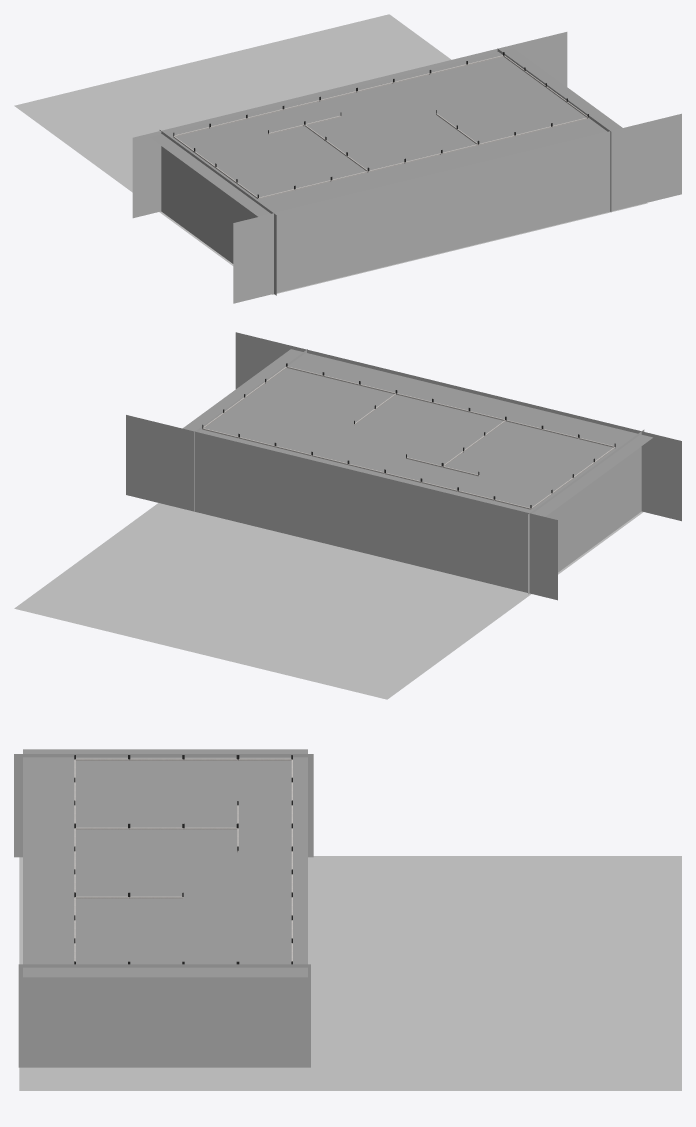
File: Structure.fbx
3 views of the same model, one above another, from view 1: azimuth 30°, elevation 25°; view 2: azimuth 150°, elevation 25°; view 3: azimuth 270°, elevation 25° (orthographic). The views are drawn at different scales.
Parts seen in each view (by area): view 1: Ceiling, Wall_1, thorkea_test_floor, Wall_2 (1), Wall_1 (1), Wall_2; view 2: thorkea_test_floor, Ceiling, Wall_1 (1), Wall_1, Wall_2 (1); view 3: thorkea_test_floor, Ceiling, Wall_2, Wall_2 (1).
Boxes of the visible parts, x1=… form: Ceiling: x1=149, y1=48, x2=622, y2=216; Wall_1: x1=233, y1=113, x2=681, y2=303; thorkea_test_floor: x1=14, y1=14, x2=647, y2=294; Wall_2 (1): x1=159, y1=130, x2=276, y2=295; Wall_1 (1): x1=132, y1=32, x2=567, y2=218; Wall_2: x1=497, y1=48, x2=611, y2=211; thorkea_test_floor: x1=14, y1=503, x2=643, y2=699; Ceiling: x1=182, y1=349, x2=652, y2=516; Wall_1 (1): x1=126, y1=415, x2=557, y2=600; Wall_1: x1=235, y1=332, x2=681, y2=521; Wall_2 (1): x1=528, y1=429, x2=644, y2=594; thorkea_test_floor: x1=19, y1=856, x2=681, y2=1090; Ceiling: x1=23, y1=749, x2=307, y2=977; Wall_2: x1=18, y1=964, x2=310, y2=1067; Wall_2 (1): x1=14, y1=754, x2=313, y2=857.
Size of the model in its own units: 11.95 by 2.1 by 12.02.
